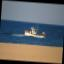fishing boat: (24, 20, 47, 40)
